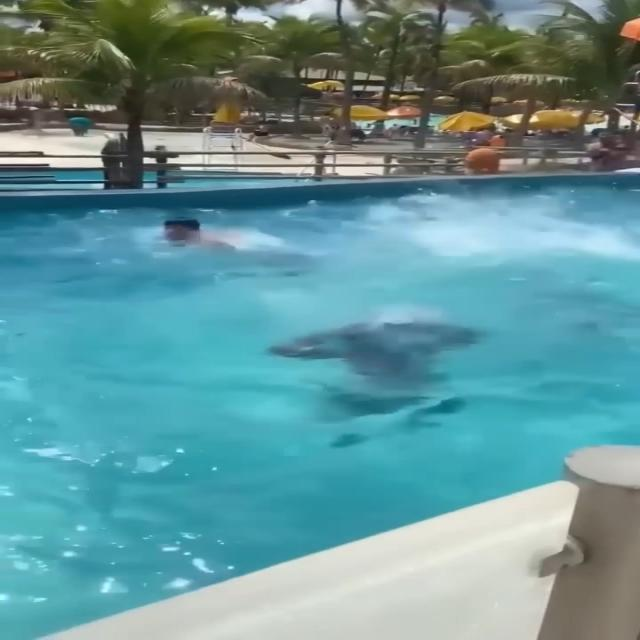Drowning: (271, 320, 489, 403)
Swimming: (135, 215, 270, 270)
